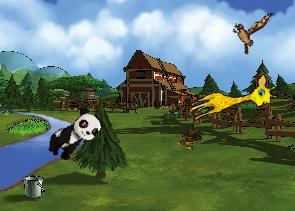eagle: (227, 4, 273, 58)
giraffe: (185, 71, 280, 132)
panda: (42, 103, 107, 167)
